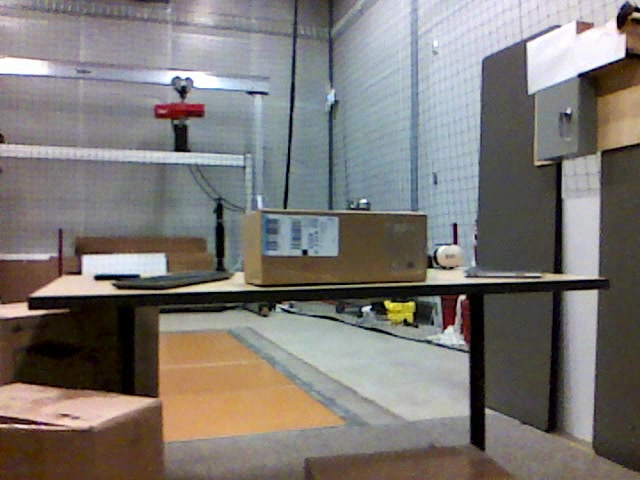box: (1, 302, 159, 468), (1, 383, 161, 480), (240, 211, 430, 283), (303, 447, 508, 480)
